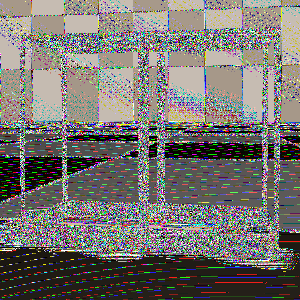Rack: (19, 24, 280, 259)
